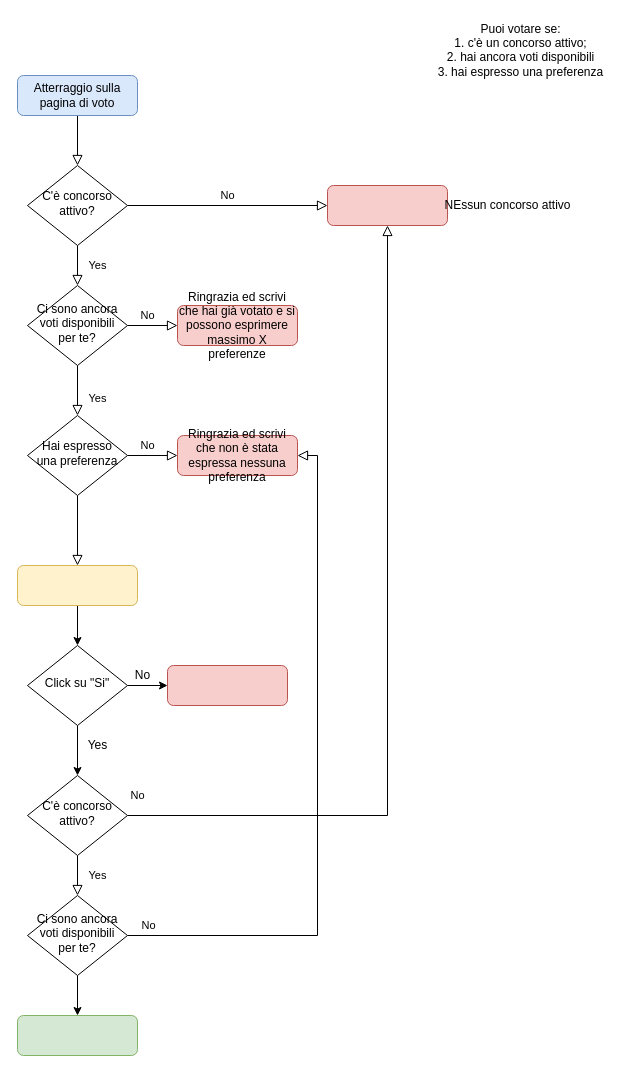
This 628x1073 diagram has some shape labels left out. Here are the shapes that lost their labels. From the top down, the centre of each, then its label:
the point at 387,205: Ringrazia ed scrivi che non ci sono concorsi
the point at 77,585: Puoi votare, pulsante di conferma disponibile
the point at 227,685: Grazie, il tuo voto non è stato inserito. Hai a disposizione ancora Z voti
the point at 77,1035: GRazie per aver votato!
